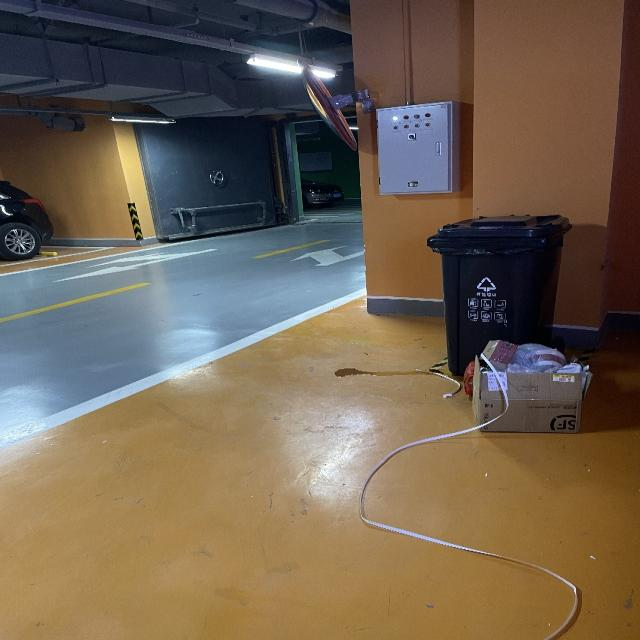garbage: (358, 340, 593, 638)
garbage_bin: (426, 213, 572, 376)
